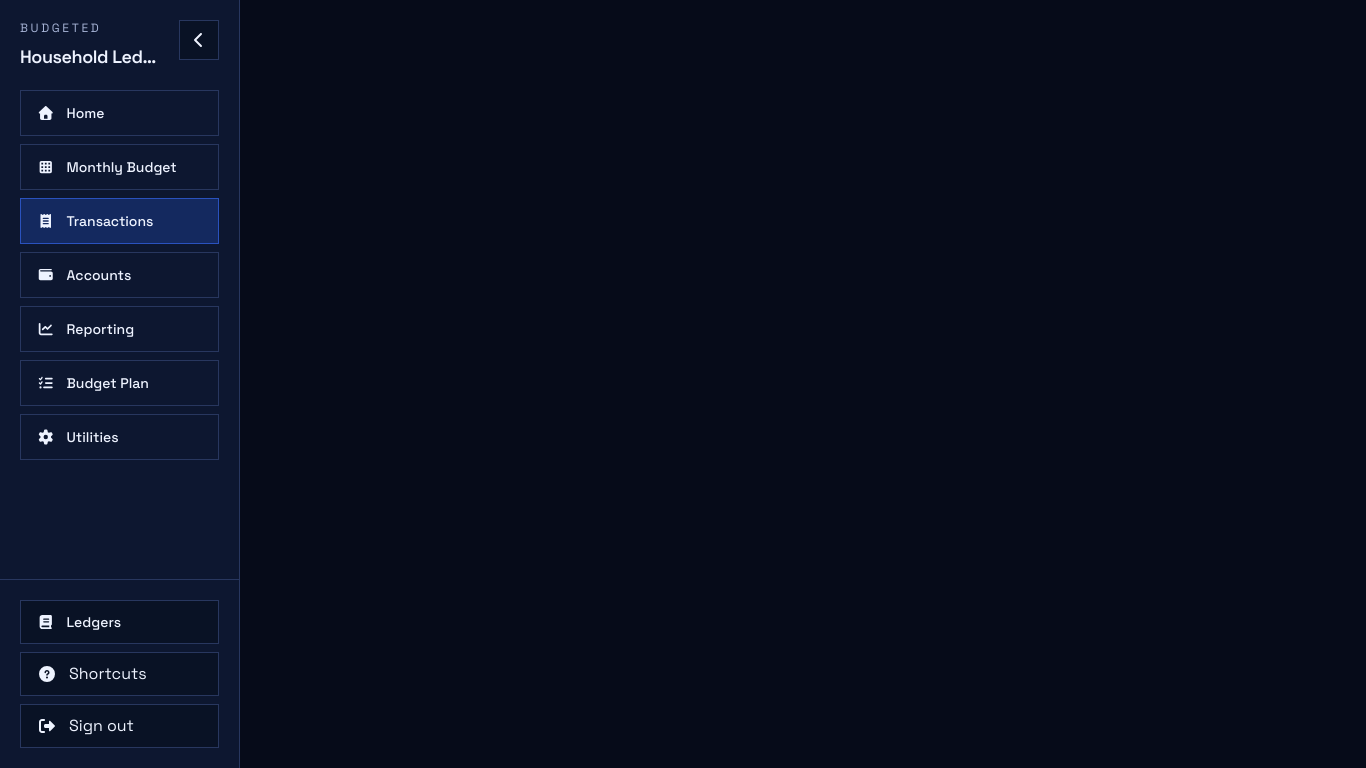
Test case: dashboard navigation › groups Ledgers, Shortcuts, and Sign out in the sidebar utility section
The width and height of the screenshot is (1366, 768).
Click the button "Shortcuts" at (120, 674), box left=20, top=652, right=219, bottom=696
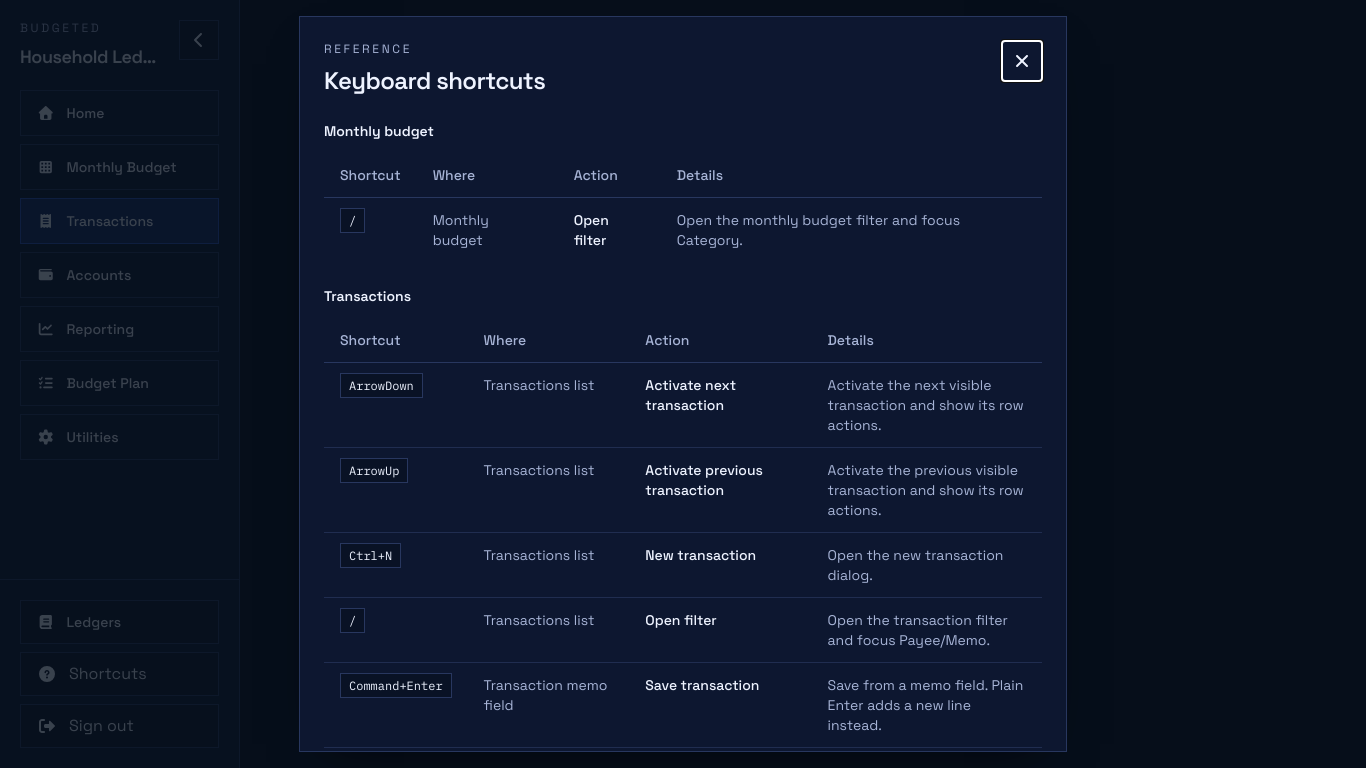
Result: the 1st text "/" is shown at left=340, top=208, right=365, bottom=233
Result: the heading "Monthly budget" is shown at left=324, top=122, right=434, bottom=140
Result: the 1st text "Open filter" is shown at left=558, top=198, right=661, bottom=262
Click the button named "Close keyboard shortcuts dialog" at (1022, 61), box left=1002, top=41, right=1042, bottom=81
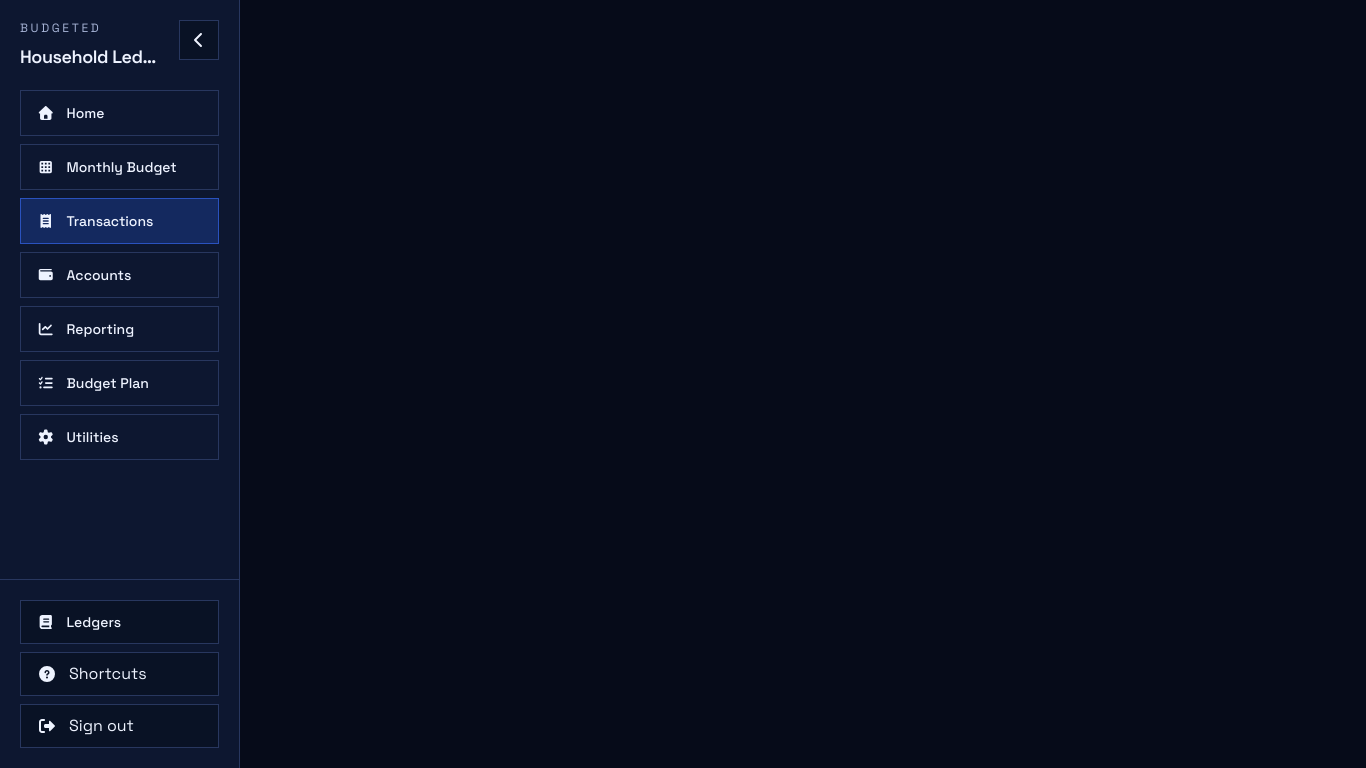
Result: the heading "Keyboard shortcuts" is gone
